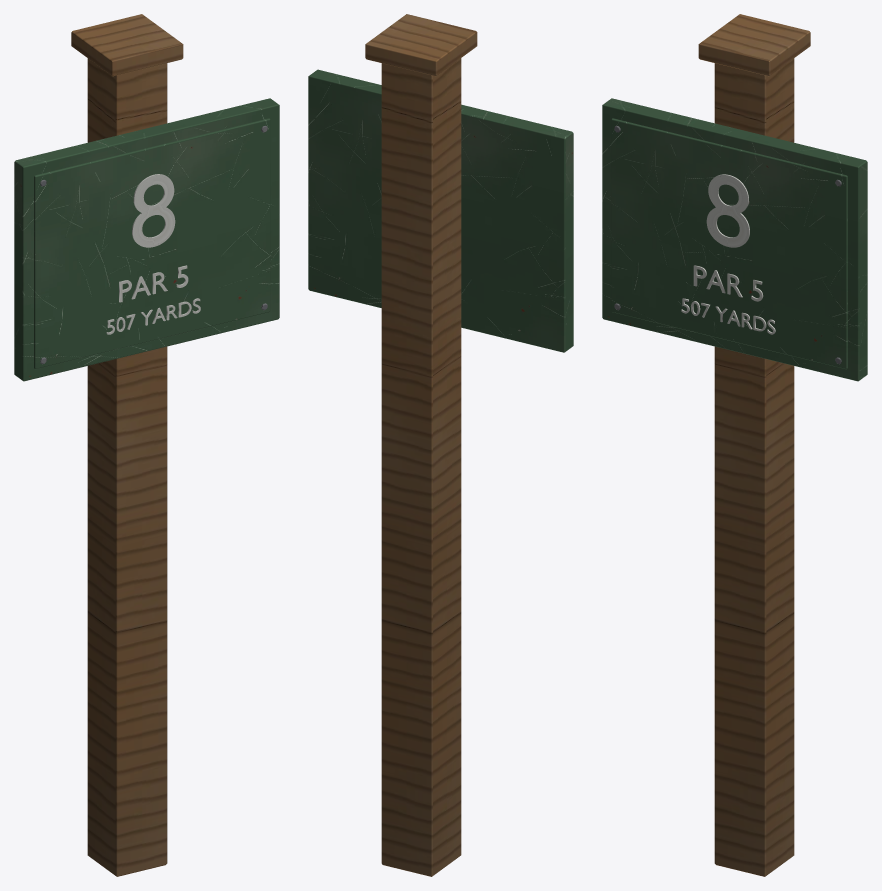
File: sign_h8.glb
3 renders of one model, left to right at view 1: azimuth 30°, elevation 25°; view 2: azimuth 150°, elevation 25°; view 3: azimuth 330°, elevation 25°, orthographic.
Visible parts, largest first — view 1: X_sign_h8, X_sign_h8_No, X_sign_h8_Yds, X_sign_h8_Par; view 2: X_sign_h8; view 3: X_sign_h8, X_sign_h8_No, X_sign_h8_Yds, X_sign_h8_Par.
Part boxes in pixels (x1,y1,x2,y2): X_sign_h8: [14, 14, 279, 876]; X_sign_h8_No: [132, 174, 175, 247]; X_sign_h8_Yds: [106, 298, 200, 334]; X_sign_h8_Par: [119, 265, 188, 302]; X_sign_h8: [308, 14, 573, 876]; X_sign_h8: [602, 14, 867, 876]; X_sign_h8_No: [706, 174, 749, 247]; X_sign_h8_Yds: [681, 298, 775, 334]; X_sign_h8_Par: [693, 265, 763, 301].
Size of the model in its own units: 0.5 by 1.53 by 0.162.
4 materials, 4 textured.
